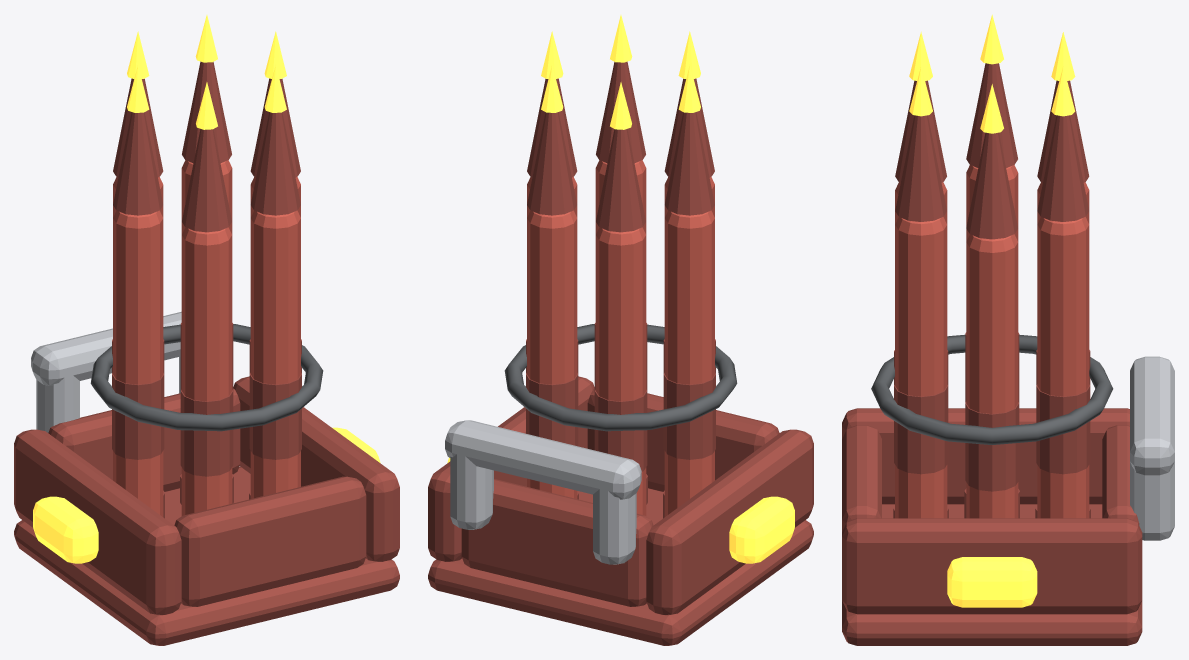
Rendered from pickup_flare_pack.glb.
The picture shows the model from 3 angles, left to right: view 1: azimuth 30°, elevation 25°; view 2: azimuth 150°, elevation 25°; view 3: azimuth 270°, elevation 25°; orthographic projection. The views are drawn at different scales.
Parts seen in each view (by area): view 1: pickup_flare_pack_tray_f, pickup_flare_pack_tray_l, pickup_flare_pack_tray_floor, pickup_flare_pack_stick3, pickup_flare_pack_stick4, pickup_flare_pack_stick5, pickup_flare_pack_tray_r, pickup_flare_pack_band, pickup_flare_pack_tray_b, pickup_flare_pack_handle_bar, pickup_flare_pack_tip5, pickup_flare_pack_tip3 (+16 smaller); view 2: pickup_flare_pack_tray_l, pickup_flare_pack_tray_b, pickup_flare_pack_tray_floor, pickup_flare_pack_stick3, pickup_flare_pack_stick2, pickup_flare_pack_stick1, pickup_flare_pack_handle_bar, pickup_flare_pack_band, pickup_flare_pack_tray_f, pickup_flare_pack_tray_r, pickup_flare_pack_tip1, pickup_flare_pack_tip3 (+17 smaller); view 3: pickup_flare_pack_tray_r, pickup_flare_pack_stick1, pickup_flare_pack_stick5, pickup_flare_pack_stick0, pickup_flare_pack_tray_floor, pickup_flare_pack_tray_l, pickup_flare_pack_band, pickup_flare_pack_handle_bar, pickup_flare_pack_marker_r, pickup_flare_pack_tray_f, pickup_flare_pack_tip0, pickup_flare_pack_tip5 (+16 smaller).
Part boxes in pixels (<box>): pickup_flare_pack_tray_f: <box>174,476,366,606</box>; pickup_flare_pack_tray_l: <box>14,429,181,615</box>; pickup_flare_pack_tray_floor: <box>14,466,399,645</box>; pickup_flare_pack_stick3: <box>113,210,163,516</box>; pickup_flare_pack_stick4: <box>181,227,232,515</box>; pickup_flare_pack_stick5: <box>250,210,300,498</box>; pickup_flare_pack_tray_r: <box>233,376,399,561</box>; pickup_flare_pack_band: <box>90,324,323,431</box>; pickup_flare_pack_tray_b: <box>48,388,240,491</box>; pickup_flare_pack_handle_bar: <box>31,311,181,385</box>; pickup_flare_pack_tip5: <box>250,112,300,215</box>; pickup_flare_pack_tip3: <box>113,112,163,215</box>; pickup_flare_pack_tray_l: <box>646,429,813,615</box>; pickup_flare_pack_tray_b: <box>461,479,653,606</box>; pickup_flare_pack_tray_floor: <box>428,488,813,645</box>; pickup_flare_pack_stick3: <box>664,210,714,516</box>; pickup_flare_pack_stick2: <box>595,227,646,515</box>; pickup_flare_pack_stick1: <box>527,210,577,498</box>; pickup_flare_pack_handle_bar: <box>445,420,641,499</box>; pickup_flare_pack_band: <box>504,324,737,431</box>; pickup_flare_pack_tray_f: <box>587,388,779,491</box>; pickup_flare_pack_tray_r: <box>428,376,594,561</box>; pickup_flare_pack_tip1: <box>527,112,577,215</box>; pickup_flare_pack_tip3: <box>664,112,714,215</box>; pickup_flare_pack_tray_r: <box>842,518,1142,614</box>; pickup_flare_pack_stick1: <box>1037,217,1089,518</box>; pickup_flare_pack_stick5: <box>895,217,947,518</box>; pickup_flare_pack_stick0: <box>966,234,1018,518</box>; pickup_flare_pack_tray_floor: <box>842,504,1142,645</box>; pickup_flare_pack_tray_l: <box>842,408,1129,504</box>; pickup_flare_pack_band: <box>871,334,1113,444</box>; pickup_flare_pack_handle_bar: <box>1130,356,1174,475</box>; pickup_flare_pack_marker_r: <box>947,557,1037,607</box>; pickup_flare_pack_tray_f: <box>842,425,881,531</box>; pickup_flare_pack_tip0: <box>966,132,1018,239</box>; pickup_flare_pack_tip5: <box>895,115,946,221</box>.
Size of the model in its own units: 0.376 by 0.595 by 0.3325.
